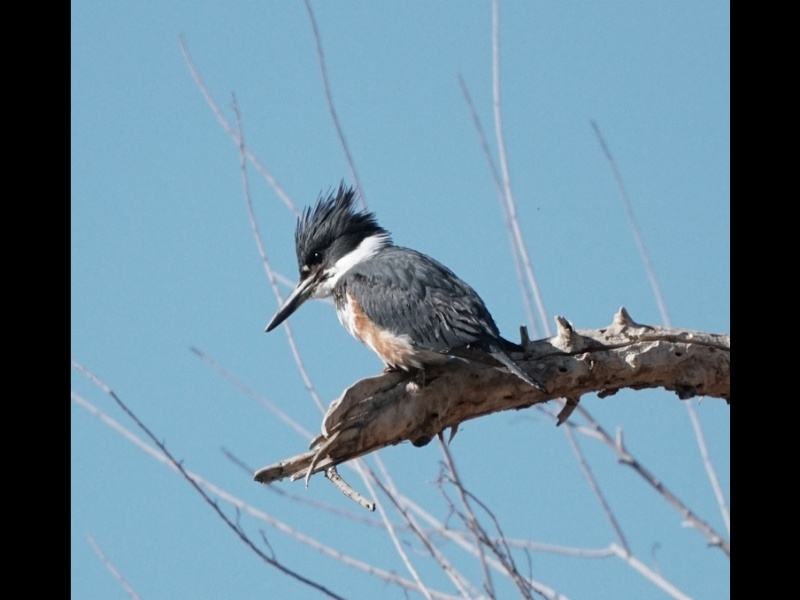kingfisher: (262, 180, 544, 401)
